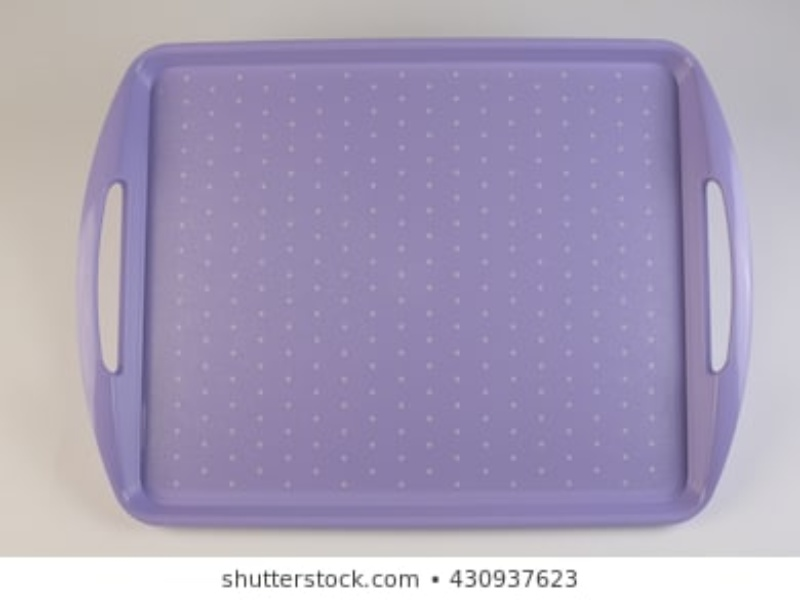plastic-tray: (74, 35, 752, 533)
